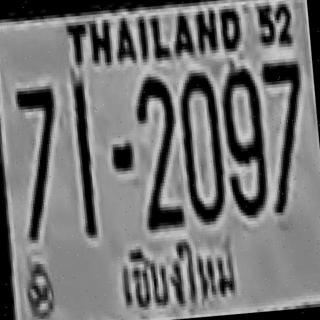N00: (177, 70, 225, 222)
N01: (70, 78, 96, 219)
N02: (132, 74, 183, 220)
N07: (259, 59, 310, 208), (15, 85, 63, 237), (259, 57, 308, 192), (14, 84, 60, 202), (259, 58, 306, 164), (14, 86, 58, 186), (259, 58, 305, 152)
N09: (217, 65, 268, 216)
P11: (110, 231, 241, 319)
